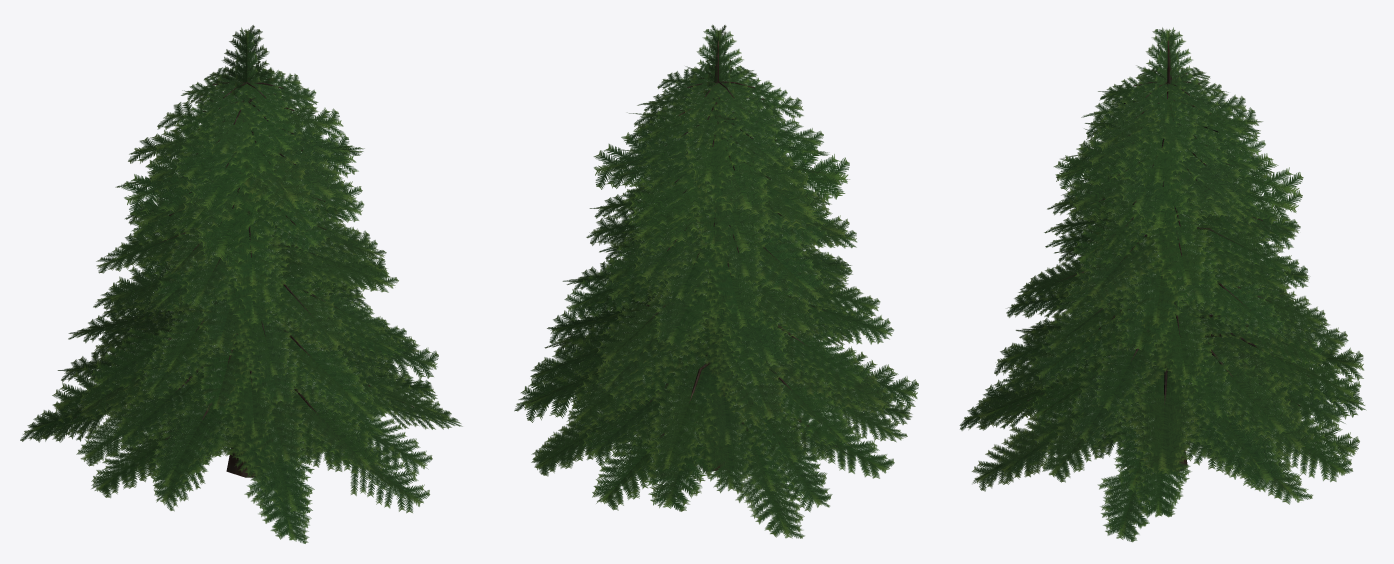
Rendered from tree_conifer_a.glb.
3 renders of one model, left to right at view 1: azimuth 30°, elevation 25°; view 2: azimuth 150°, elevation 25°; view 3: azimuth 270°, elevation 25°, orthographic.
Parts seen in each view (by area): view 1: tree_conifer_a_leaves, tree_conifer_a; view 2: tree_conifer_a_leaves, tree_conifer_a; view 3: tree_conifer_a_leaves, tree_conifer_a.
Boxes of the visible parts, x1,y1,x2,y2 form: tree_conifer_a_leaves: (20,25,462,543); tree_conifer_a: (74,49,419,477); tree_conifer_a_leaves: (514,25,918,538); tree_conifer_a: (568,41,854,471); tree_conifer_a_leaves: (959,27,1365,542); tree_conifer_a: (1017,40,1315,471).
Bounding box in the file's own units: 6.61 × 7.44 × 6.55.
2 materials, 2 textured.
